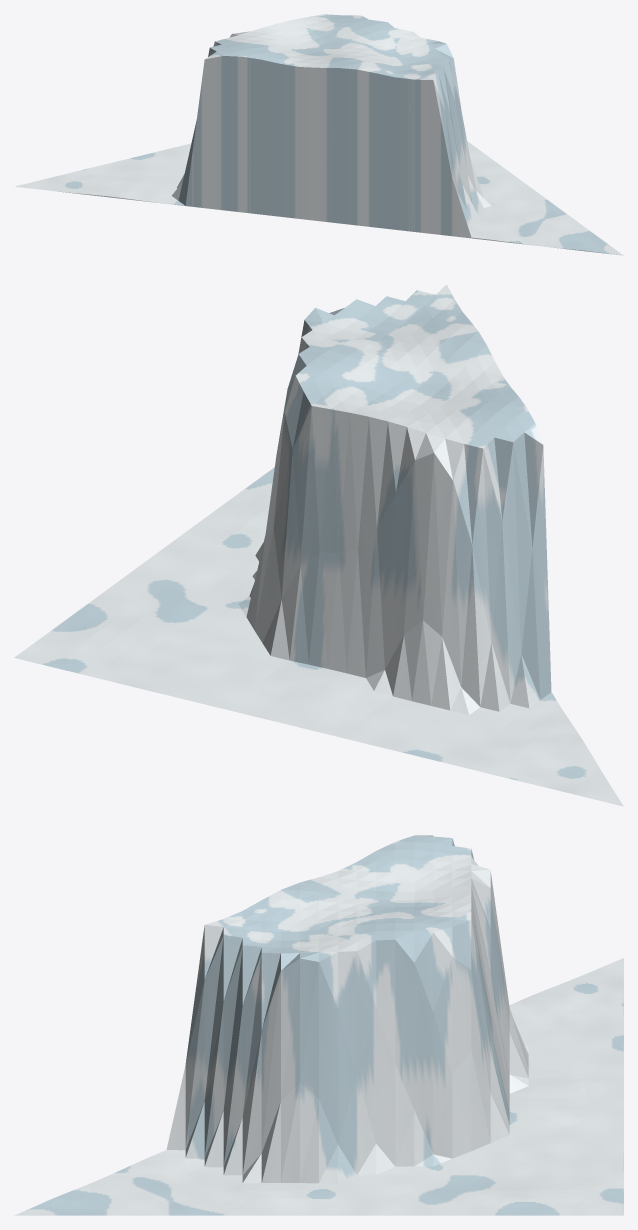
The model's file is Snow_Mountains_06_SE.obj.
3 renders of one model, top to bottom at view 1: azimuth 30°, elevation 25°; view 2: azimuth 150°, elevation 25°; view 3: azimuth 270°, elevation 25°, orthographic. The views are drawn at different scales.
Size of the model in its own units: 10 by 3.85 by 10.
Materials: 1 (1 with a texture image).
